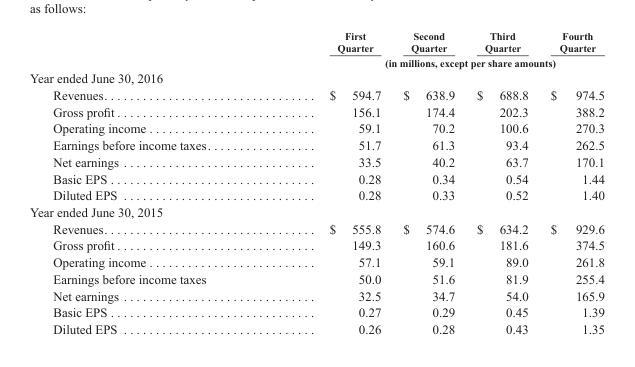table: (29, 29, 603, 335)
table column: (29, 29, 269, 335), (269, 29, 391, 335), (391, 29, 465, 335), (465, 29, 538, 335), (538, 29, 603, 335)
table column header: (29, 29, 603, 69)
table projected row header: (29, 69, 603, 86), (29, 203, 603, 220)
table row: (29, 29, 603, 54), (29, 69, 603, 86), (29, 86, 603, 103), (29, 119, 603, 136), (29, 136, 603, 153), (29, 169, 603, 186), (29, 186, 603, 203), (29, 203, 603, 220), (29, 236, 603, 253), (29, 253, 603, 270), (29, 286, 603, 303), (29, 303, 603, 320), (29, 103, 603, 119), (29, 153, 603, 169), (29, 220, 603, 236), (29, 270, 603, 286), (29, 54, 603, 69), (29, 320, 603, 335)
table spanning cell: (269, 54, 603, 69)
